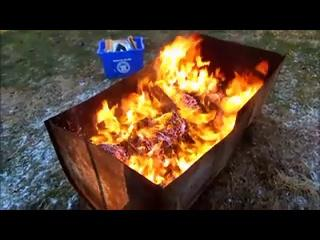fire: (97, 32, 267, 190)
